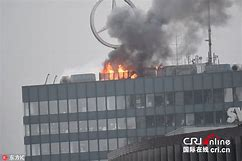smoke: (106, 1, 226, 67)
